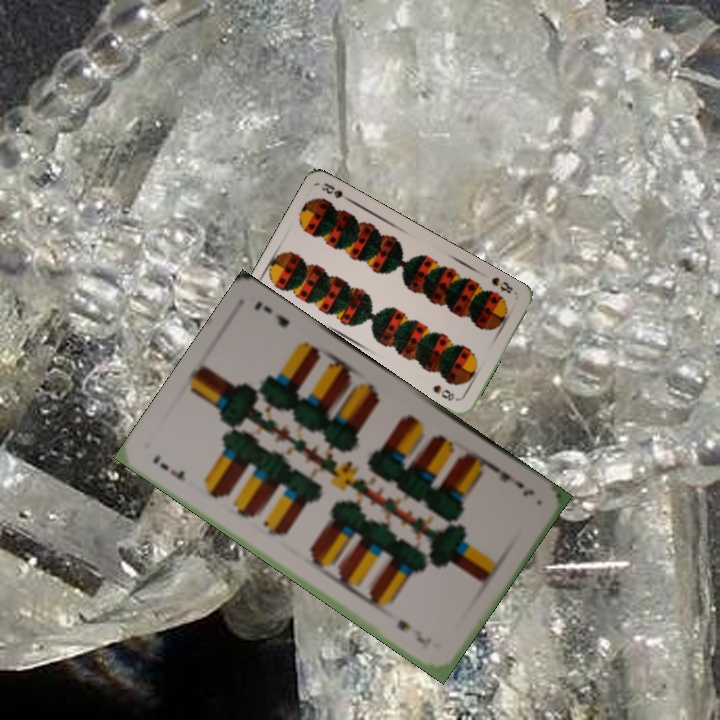E7: (488, 461, 537, 499), (148, 450, 188, 484)
S8: (487, 273, 516, 296)
